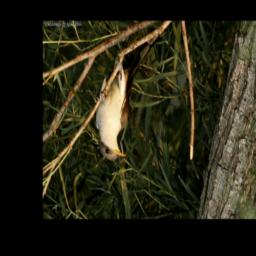Cuckoo: (93, 29, 162, 161)
